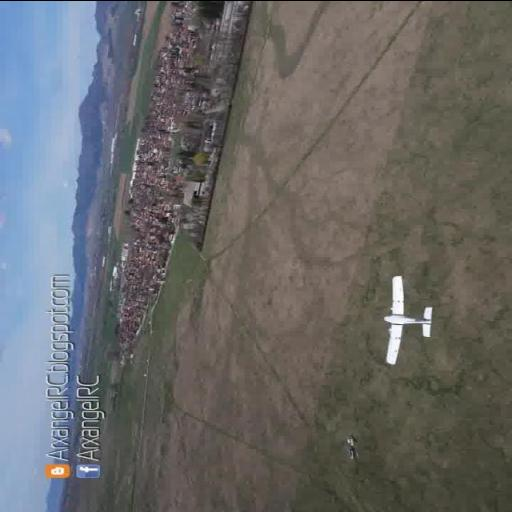uav: (377, 270, 439, 365)
